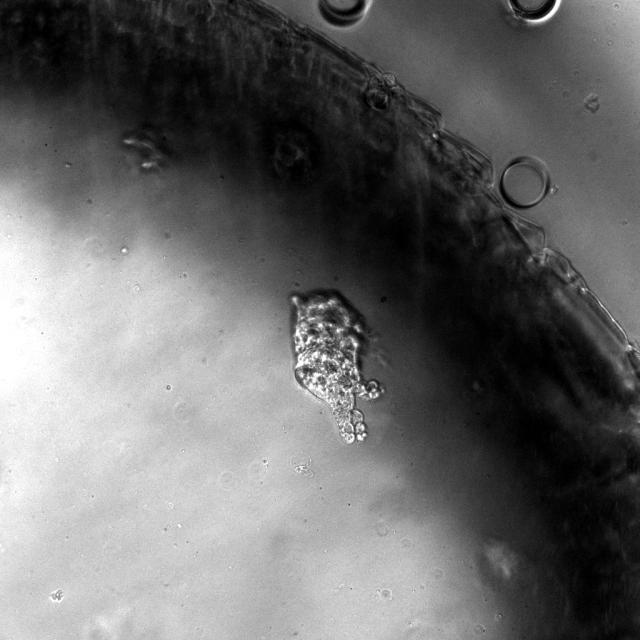organoid: (292, 291, 382, 443)
